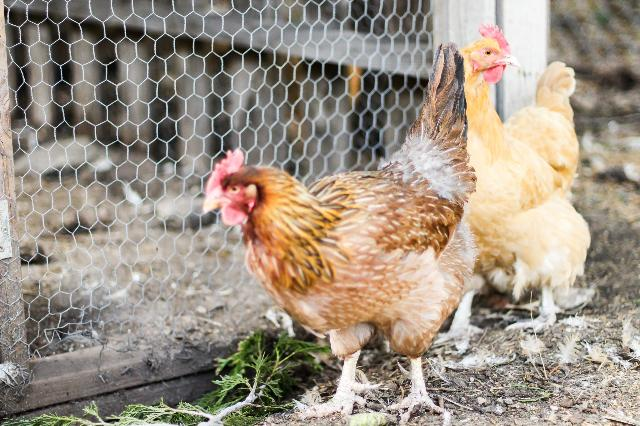Chicken: (203, 44, 477, 422), (458, 22, 597, 349)
